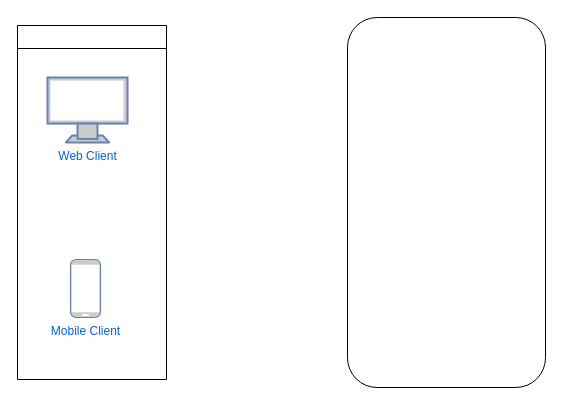
The diagram is 563 pixels wide and 405 high, and some of its shapes have lost their labels. Here are the shapes that lost their labels. From the top down, the centre of each, then its label:
At point (91, 202): "Client".
At point (446, 202): "API Gateway".
